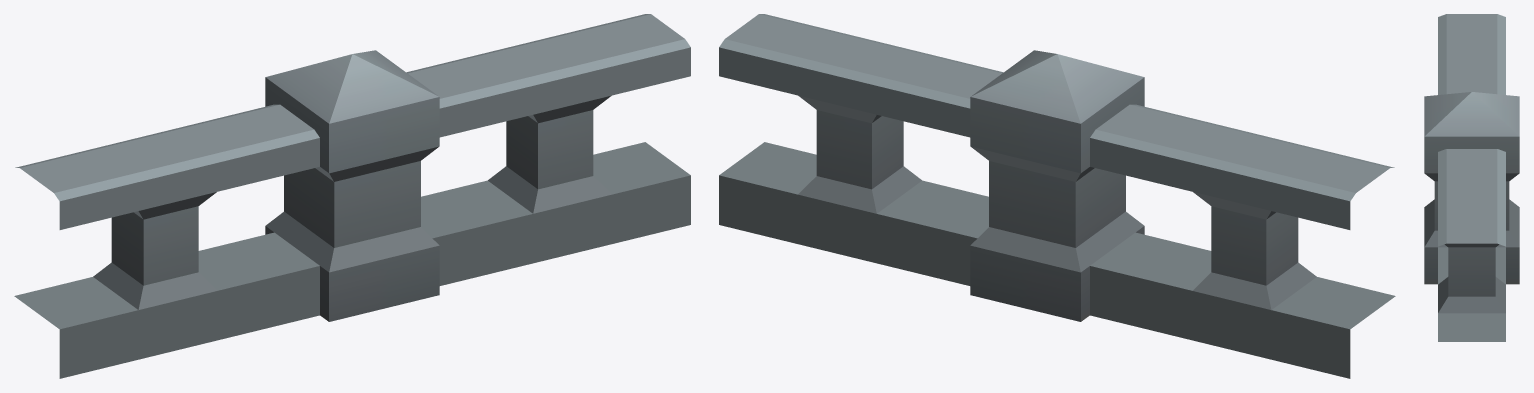
Rendered from kay-coluna-barreira.gltf.
3 renders of one model, left to right at view 1: azimuth 30°, elevation 25°; view 2: azimuth 150°, elevation 25°; view 3: azimuth 270°, elevation 25°, orthographic. The views are drawn at different scales.
Visible parts, largest first — view 1: barrier_column; view 2: barrier_column; view 3: barrier_column.
Part boxes in pixels (bbox=[...]): barrier_column: bbox=[14, 14, 690, 378]; barrier_column: bbox=[719, 14, 1395, 378]; barrier_column: bbox=[1424, 14, 1519, 341].
Size of the model in its own units: 2.6 by 0.91 by 0.4548.
1 material, 1 textured.
